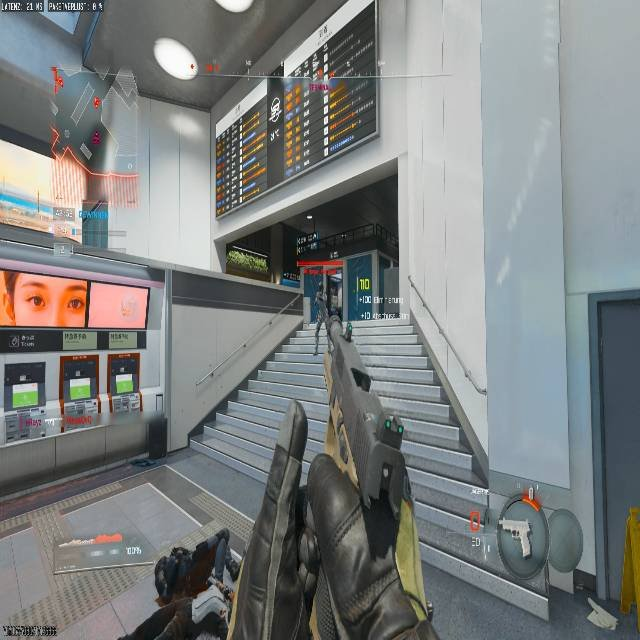player: (112, 529, 242, 640)
